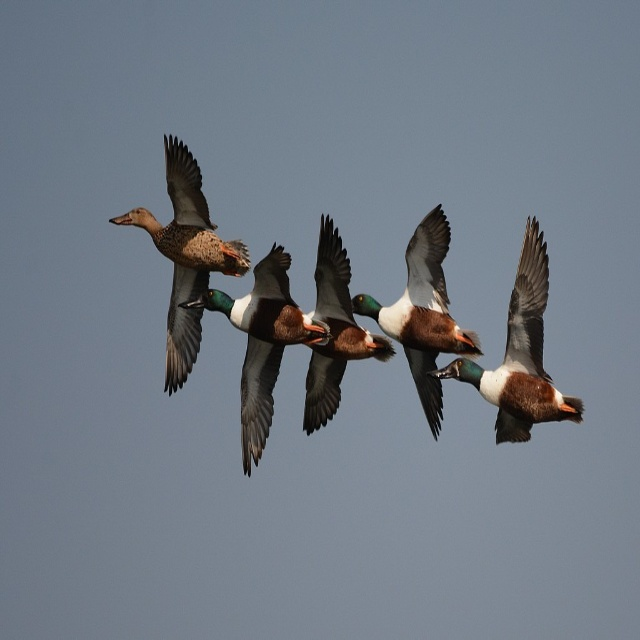Eagle: (105, 128, 590, 478)
